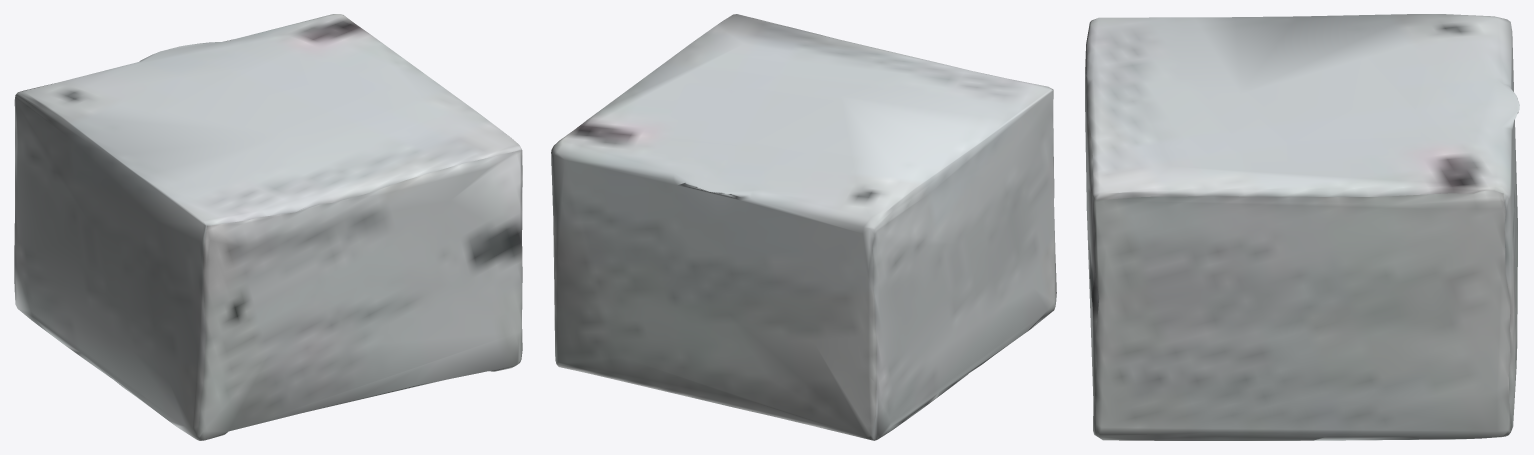
File: Perricone_MD_Face_Finishing_Moisturizer_4_oz-medium.glb
3 views of the same model, side by side, from view 1: azimuth 30°, elevation 25°; view 2: azimuth 150°, elevation 25°; view 3: azimuth 270°, elevation 25° (orthographic). The views are drawn at different scales.
Visible parts, largest first — view 1: Perricone_MD_Face_Finishing_Moisturizer_4_oz; view 2: Perricone_MD_Face_Finishing_Moisturizer_4_oz; view 3: Perricone_MD_Face_Finishing_Moisturizer_4_oz.
Boxes of the visible parts, x1,y1,x2,y2 form: Perricone_MD_Face_Finishing_Moisturizer_4_oz: (14, 14, 522, 440); Perricone_MD_Face_Finishing_Moisturizer_4_oz: (551, 14, 1056, 440); Perricone_MD_Face_Finishing_Moisturizer_4_oz: (1085, 14, 1519, 440).
Bounding box in the file's own units: 0.0779 × 0.0513 × 0.0784.
1 material, 1 textured.
